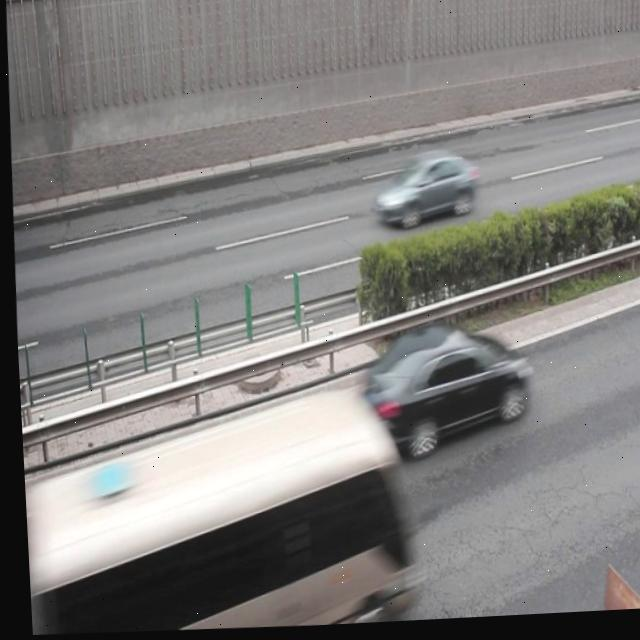car: (354, 319, 524, 458), (369, 148, 475, 232)
van: (35, 387, 405, 639)
